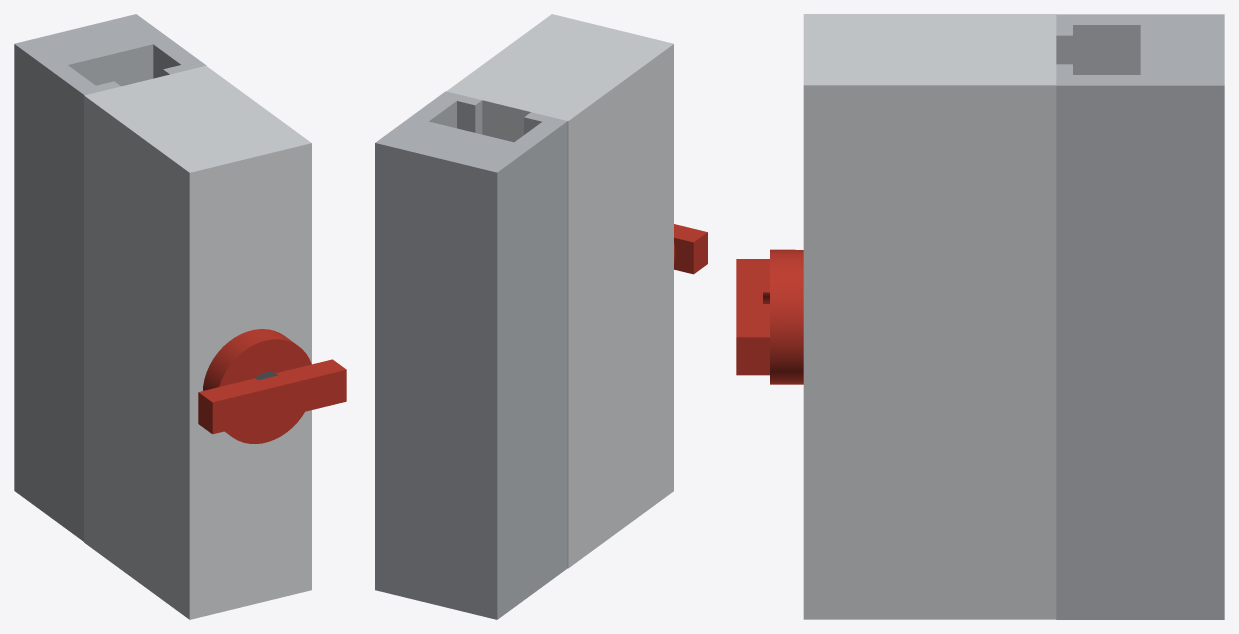
File: c_detail_suitcase.glb
3 views of the same model, side by side, from view 1: azimuth 30°, elevation 25°; view 2: azimuth 150°, elevation 25°; view 3: azimuth 270°, elevation 25° (orthographic). The views are drawn at different scales.
Visible parts, largest first — view 1: panel_rail, ring_upright, wing_knob; view 2: ring_upright, panel_rail, wing_knob; view 3: panel_rail, ring_upright, wing_knob.
Boxes of the visible parts, x1=… form: panel_rail: x1=84, y1=66, x2=311, y2=619; ring_upright: x1=14, y1=14, x2=206, y2=541; wing_knob: x1=198, y1=329, x2=346, y2=443; ring_upright: x1=375, y1=91, x2=567, y2=619; panel_rail: x1=446, y1=14, x2=673, y2=568; wing_knob: x1=674, y1=224, x2=707, y2=274; panel_rail: x1=803, y1=14, x2=1056, y2=619; ring_upright: x1=1056, y1=14, x2=1224, y2=619; wing_knob: x1=736, y1=249, x2=803, y2=384.
Size of the model in its own units: 0.022 by 0.07 by 0.058.
